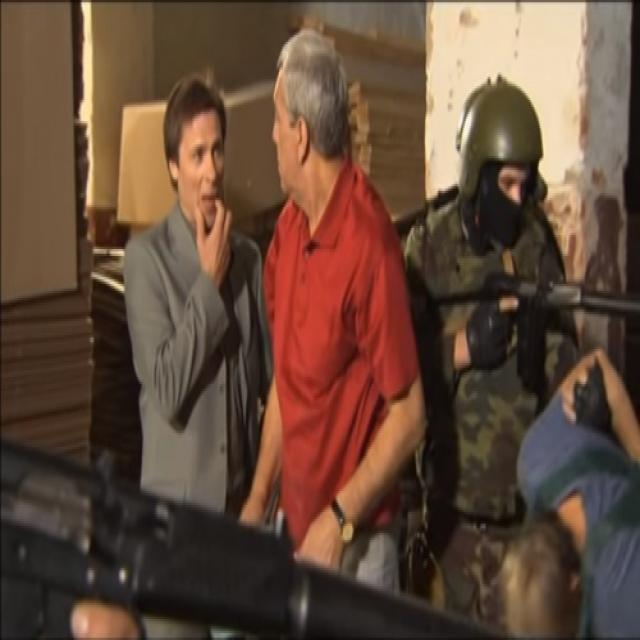rifle: (481, 263, 640, 389)
